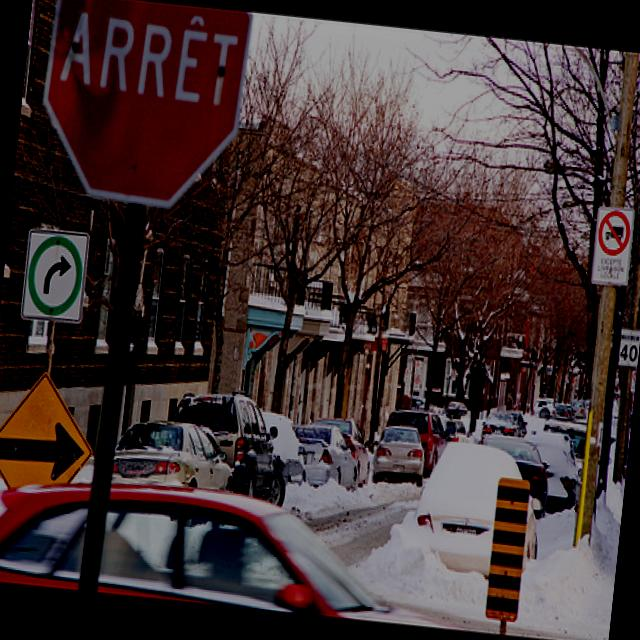Vehicle: (0, 466, 518, 640), (391, 378, 605, 562), (414, 434, 552, 585), (163, 384, 294, 506), (110, 415, 242, 492), (302, 414, 374, 494), (287, 422, 363, 490), (250, 411, 316, 488), (382, 408, 448, 479), (368, 422, 428, 488), (538, 416, 587, 479), (481, 406, 528, 441), (542, 397, 578, 421), (444, 400, 469, 420)
